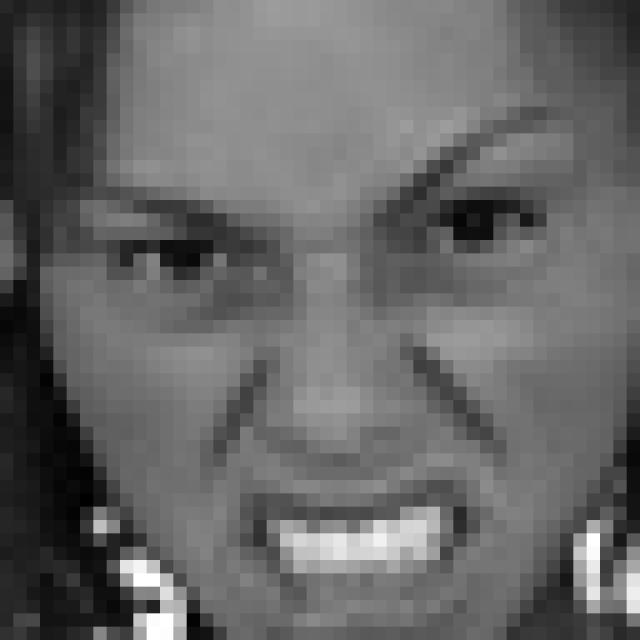angry: (85, 106, 592, 619)
